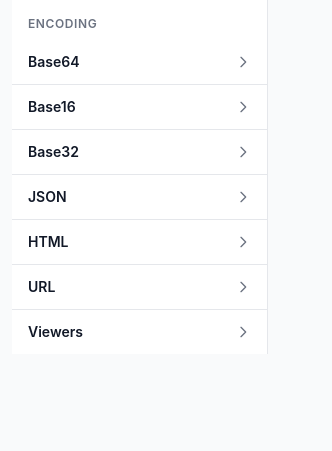
Test case: Sidebar Navigation Integration › Group Expand/Collapse › should expand group when clicking group header
This screenshot has width=332, height=451.
Step 1. Click the button "Base64" → (140,62), box [12, 40, 267, 84]
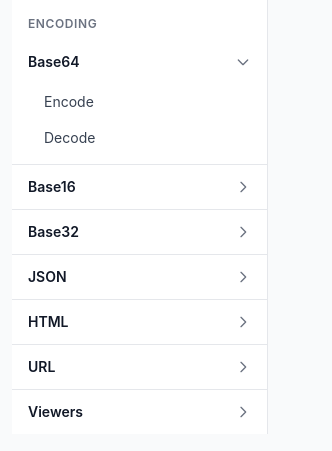
Check: the button "Encode" is shown, box [12, 84, 267, 120]
Check: the button "Decode" is shown, box [12, 120, 267, 156]
